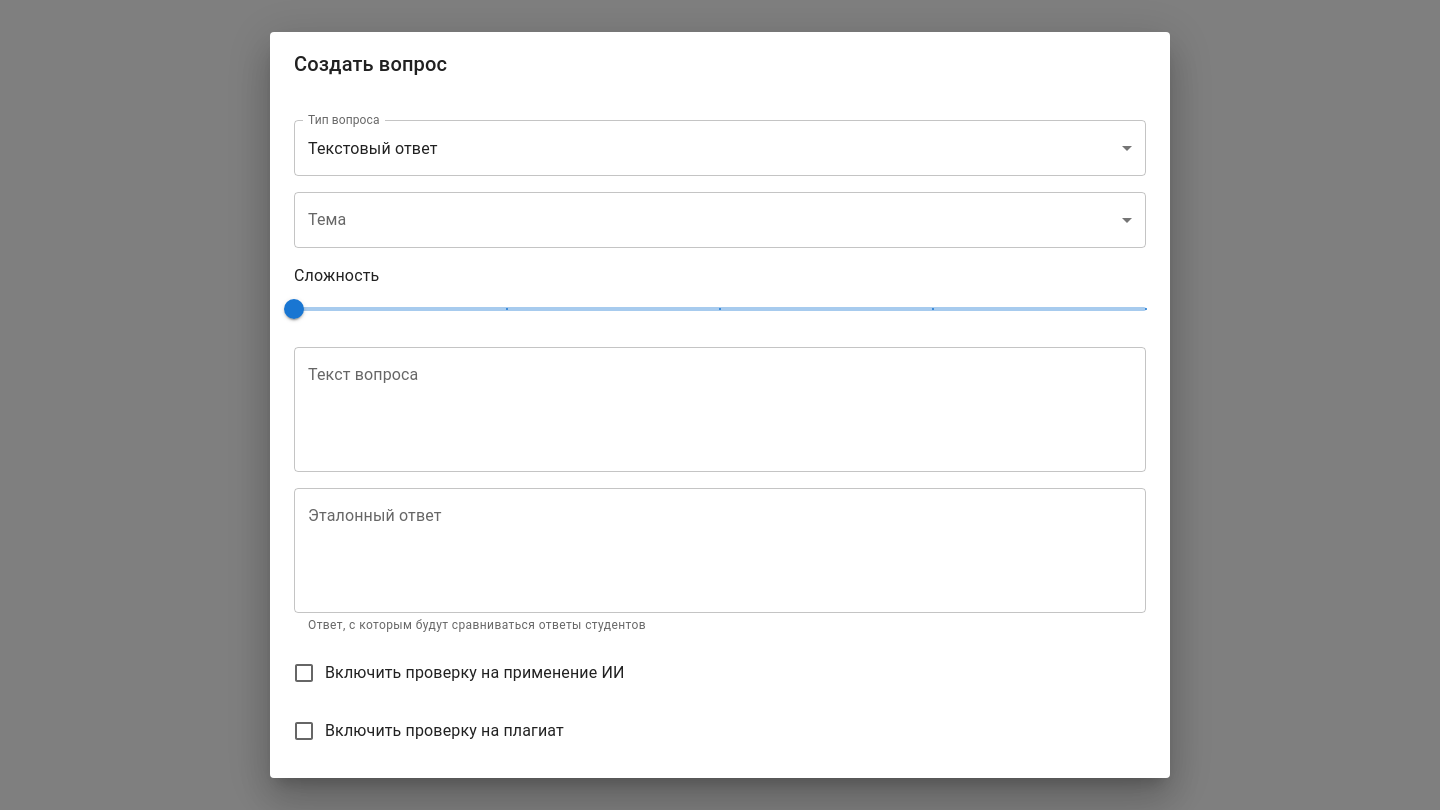
Test: QuestionFormDialog (Конструктор вопросов) › should switch between text and image_annotation types
The image size is (1440, 810).
Expected: the text box labelled "Эталонный ответ" is shown, [308, 504, 1132, 596]
// Переключаем на 'image_annotation'
Press the mouse on the dropdown labelled "Текстовый ответ": (373, 148) [308, 138, 438, 158]
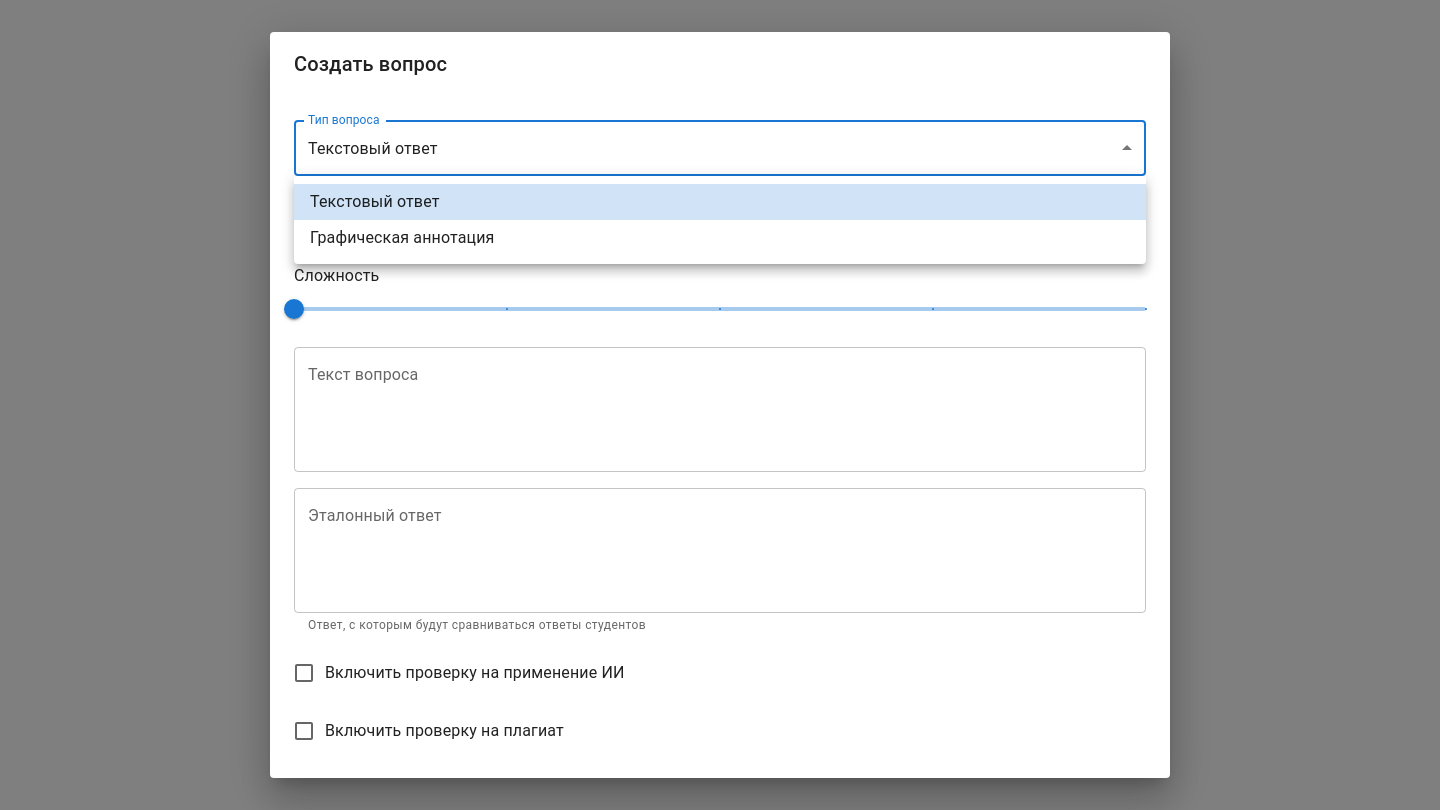
Click the option "Графическая аннотация": (402, 238) [310, 228, 494, 247]
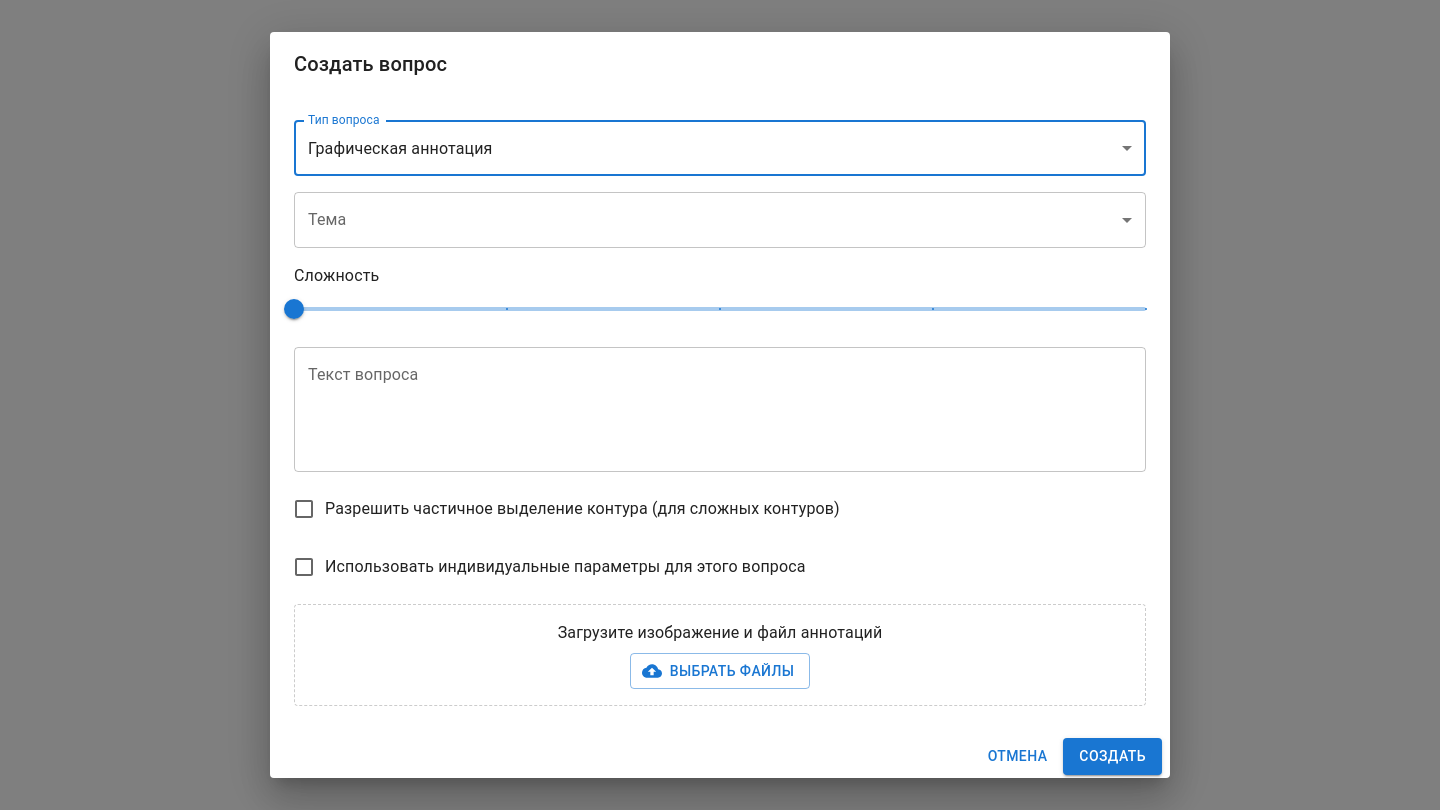
Result: the label labelled "Эталонный ответ" is gone
Result: the text "Загрузите изображение и файл аннотаций" is shown at [558, 623, 882, 642]
